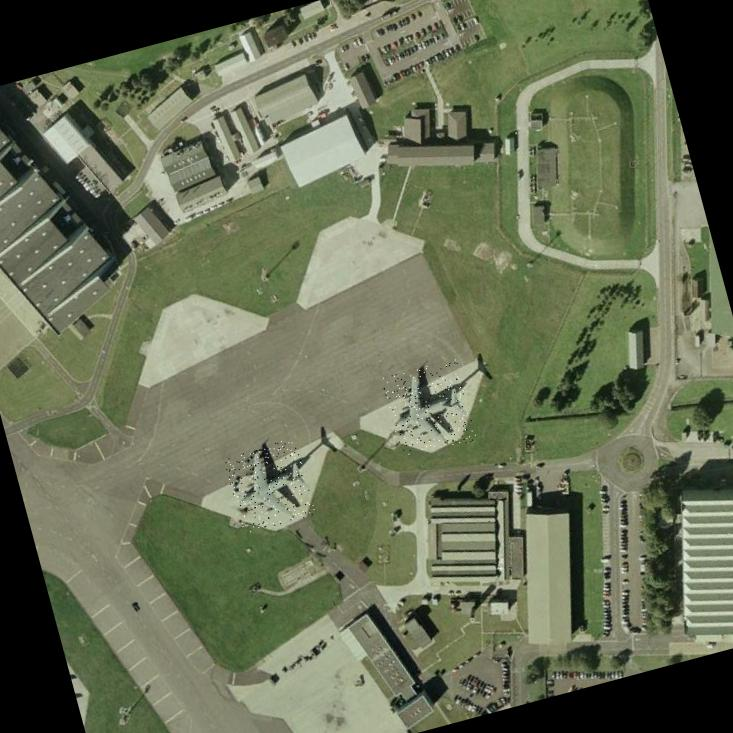A3: (380, 358, 477, 460), (222, 437, 316, 534)
